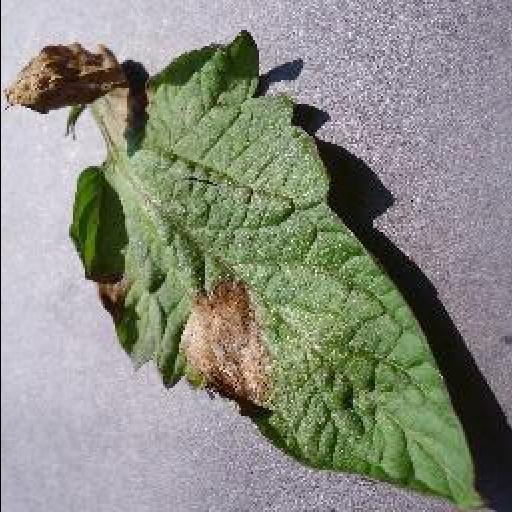disease_tomato: (0, 28, 486, 512)
